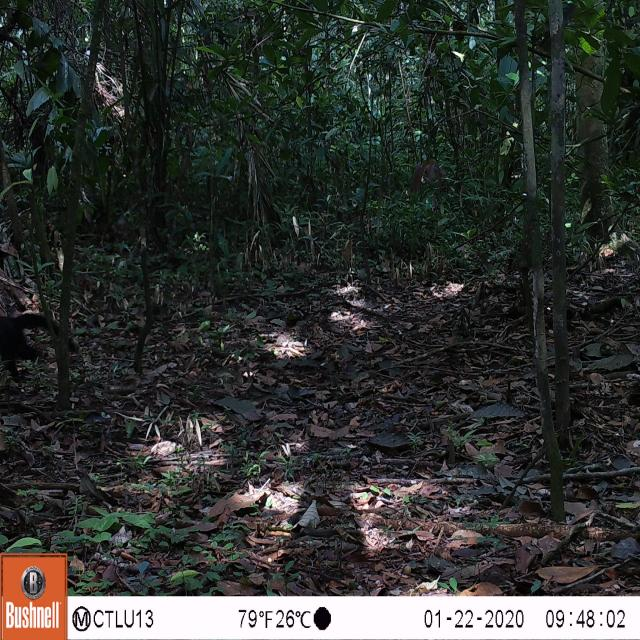Tayra: (0, 308, 87, 384)
